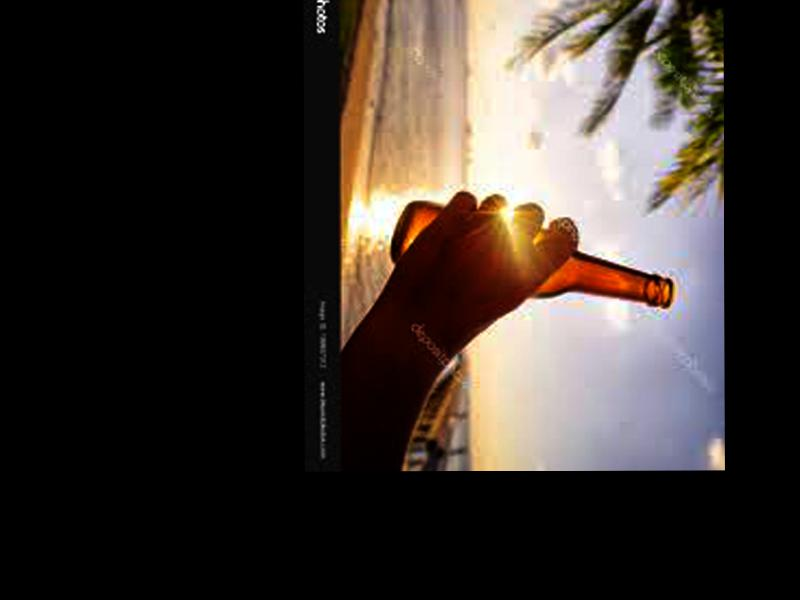Beer: (391, 200, 673, 309)
